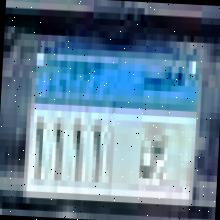1: (86, 120, 106, 188), (48, 119, 67, 188), (68, 118, 86, 190), (32, 116, 50, 186)
seen: (129, 120, 178, 198)
